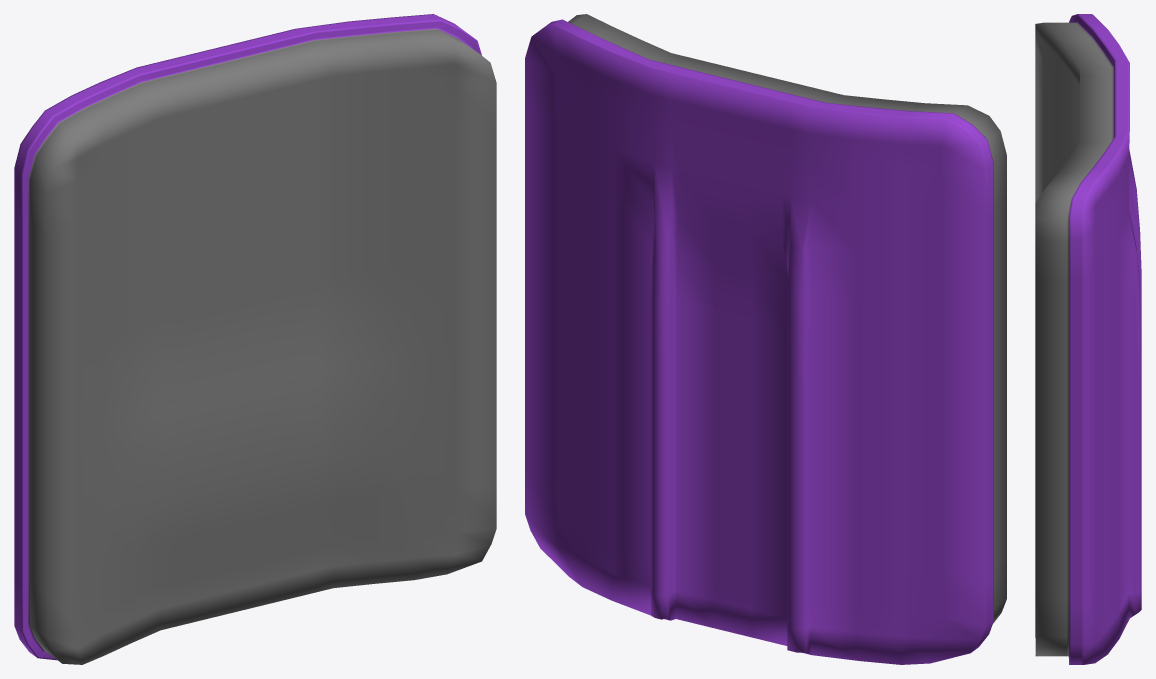
File: chair_top.fbx
The picture shows the model from 3 angles, left to right: view 1: azimuth 30°, elevation 25°; view 2: azimuth 150°, elevation 25°; view 3: azimuth 270°, elevation 25°; orthographic projection. The views are drawn at different scales.
Parts seen in each view (by area): view 1: chair_top; view 2: chair_top; view 3: chair_top.
Part boxes in pixels (bbox=[...]): chair_top: bbox=[14, 14, 496, 664]; chair_top: bbox=[525, 14, 1006, 664]; chair_top: bbox=[1035, 14, 1141, 664].
Bounding box in the file's own units: 90.41 × 103 × 20.29.
